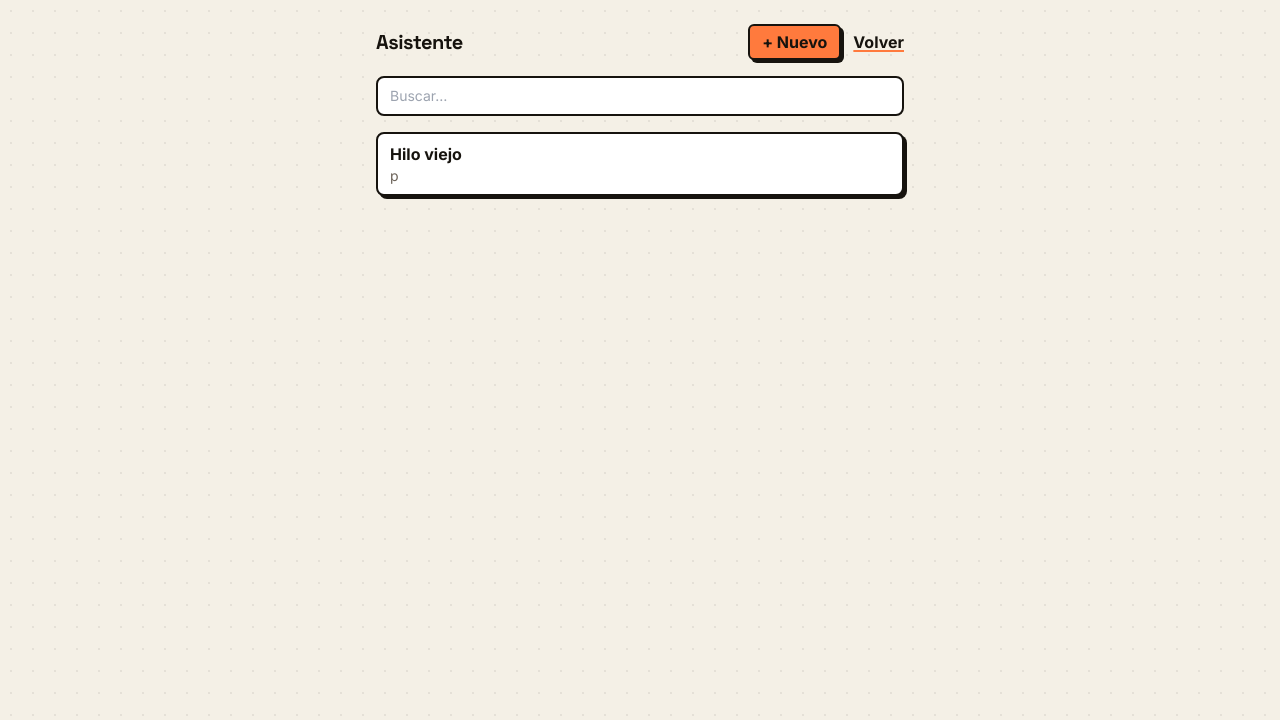
Test case: ThreadListPage › búsqueda sin resultados muestra 'Sin resultados'
Step 1. Type "zzz" into the search field with placeholder "Buscar…" → coordinates (640, 96), box [376, 76, 904, 116]
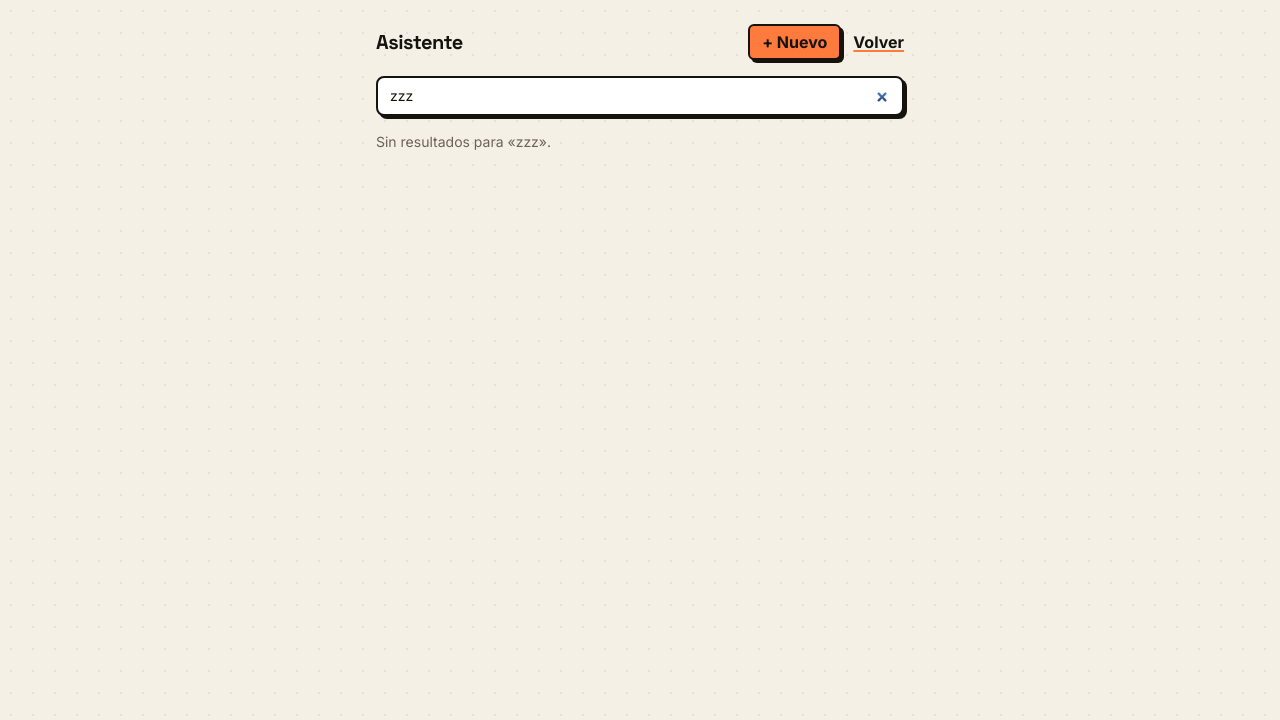
expect the text "Sin resultados para «zzz»." is shown: met, box [376, 133, 551, 150]
